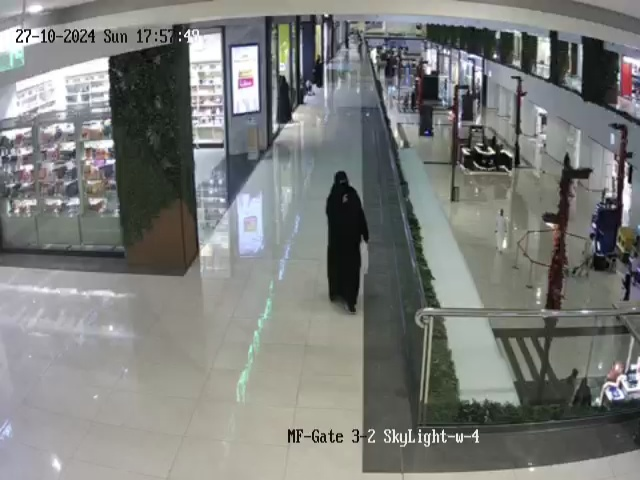female: (325, 170, 369, 314), (561, 150, 573, 179)
male: (491, 202, 517, 260)
